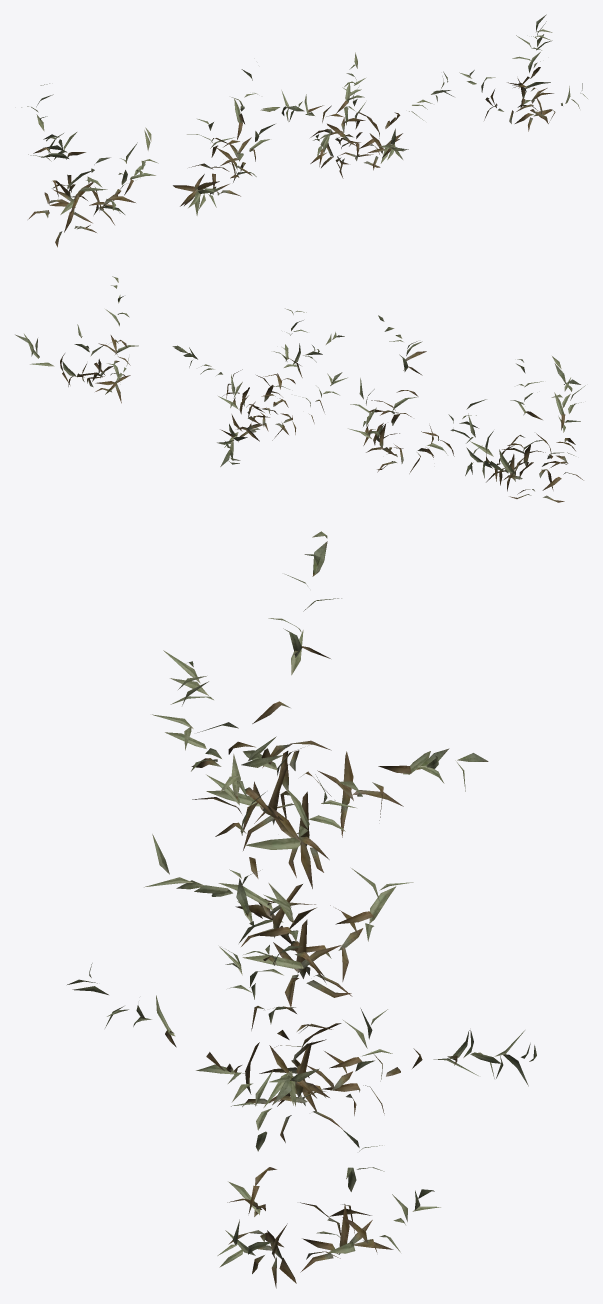
Rendered from buisson_sauvage_lod2.glb.
3 renders of one model, top to bottom at view 1: azimuth 30°, elevation 25°; view 2: azimuth 150°, elevation 25°; view 3: azimuth 270°, elevation 25°, orthographic. The views are drawn at different scales.
Parts seen in each view (by area): view 1: shrub_02_a; view 2: shrub_02_a; view 3: shrub_02_a.
Part boxes in pixels (left/top/right/bottom): shrub_02_a: left=21, top=14, right=587, bottom=247; shrub_02_a: left=15, top=276, right=585, bottom=502; shrub_02_a: left=67, top=531, right=536, bottom=1288.
Size of the model in its own units: 6.11 by 1.65 by 2.3.
Materials: 1 (1 with a texture image).
